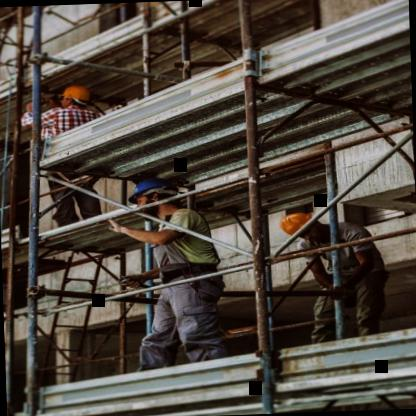helmet: (120, 173, 184, 217), (278, 209, 328, 243), (56, 80, 93, 112)
